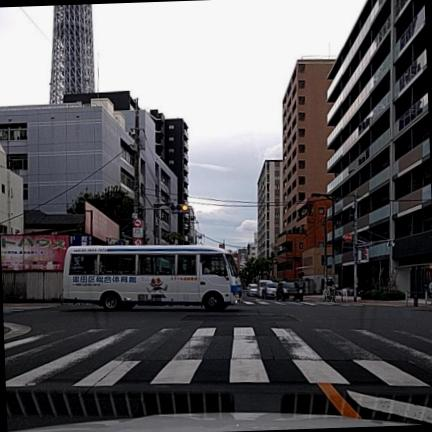Road: (3, 297, 431, 429)
